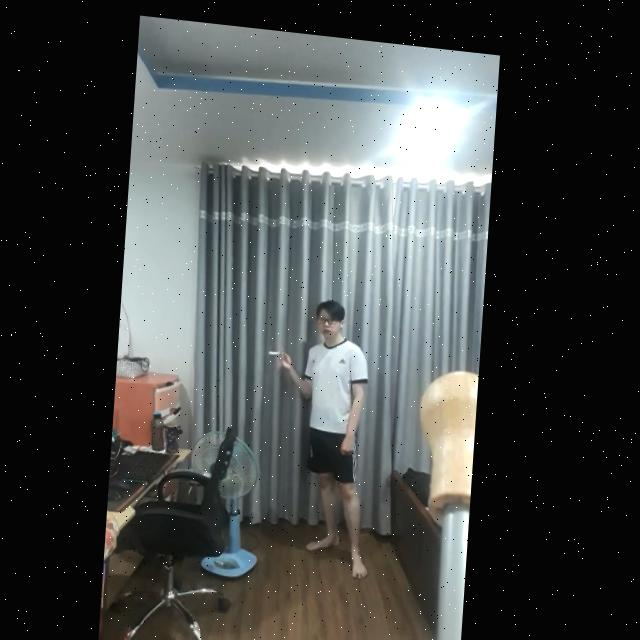cigarette: (273, 343, 288, 349)
